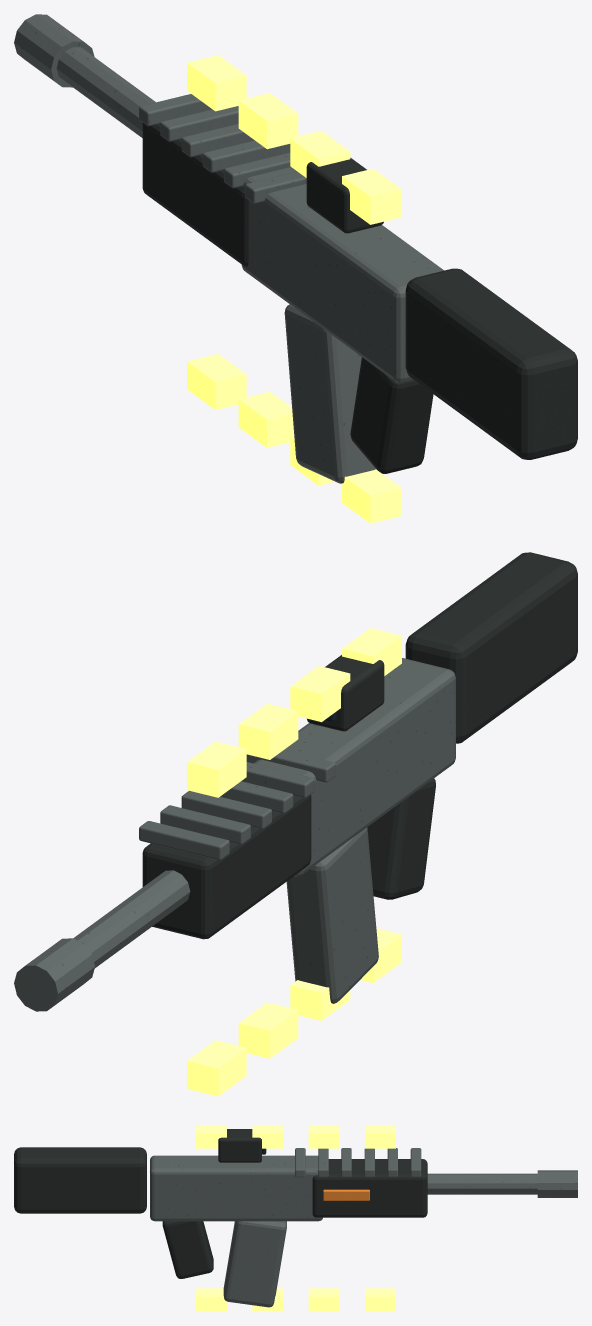
The model's file is rifle_4.glb.
The picture shows the model from 3 angles, top to bottom: view 1: azimuth 30°, elevation 25°; view 2: azimuth 150°, elevation 25°; view 3: azimuth 270°, elevation 25°; orthographic projection. The views are drawn at different scales.
Visible parts, largest first — view 1: Weapon_rifle, GRADE_4_RAIL_2_1, GRADE_4_RAIL_3_1, GRADE_4_RAIL_3_-1, GRADE_4_RAIL_0_-1, GRADE_4_RAIL_2_-1, GRADE_4_RAIL_0_1, GRADE_4_RAIL_1_1; view 2: Weapon_rifle, GRADE_4_RAIL_3_1, GRADE_4_RAIL_3_-1, GRADE_4_RAIL_2_-1, GRADE_4_RAIL_2_1, GRADE_4_RAIL_1_1, GRADE_4_RAIL_0_1, GRADE_4_RAIL_1_-1, GRADE_4_RAIL_0_-1; view 3: Weapon_rifle, GRADE_4_RAIL_2_1, GRADE_4_RAIL_2_-1, GRADE_4_RAIL_3_1, GRADE_4_RAIL_3_-1, GRADE_4_RAIL_0_-1, GRADE_4_RAIL_1_1, GRADE_4_RAIL_0_1, GRADE_4_RAIL_1_-1.
Boxes of the visible parts, bbox=[...] form: Weapon_rifle: bbox=[14, 14, 577, 483]; GRADE_4_RAIL_2_1: bbox=[238, 93, 298, 149]; GRADE_4_RAIL_3_1: bbox=[187, 55, 246, 111]; GRADE_4_RAIL_3_-1: bbox=[187, 353, 246, 409]; GRADE_4_RAIL_0_-1: bbox=[342, 469, 401, 523]; GRADE_4_RAIL_2_-1: bbox=[238, 391, 294, 447]; GRADE_4_RAIL_0_1: bbox=[342, 168, 401, 224]; GRADE_4_RAIL_1_1: bbox=[290, 130, 350, 177]; Weapon_rifle: bbox=[14, 552, 577, 1011]; GRADE_4_RAIL_3_1: bbox=[187, 741, 246, 797]; GRADE_4_RAIL_3_-1: bbox=[187, 1040, 246, 1096]; GRADE_4_RAIL_2_-1: bbox=[238, 1002, 298, 1058]; GRADE_4_RAIL_2_1: bbox=[238, 703, 298, 759]; GRADE_4_RAIL_1_1: bbox=[290, 666, 350, 722]; GRADE_4_RAIL_0_1: bbox=[342, 628, 401, 675]; GRADE_4_RAIL_1_-1: bbox=[290, 980, 350, 1020]; GRADE_4_RAIL_0_-1: bbox=[360, 928, 401, 982]; Weapon_rifle: bbox=[14, 1129, 577, 1307]; GRADE_4_RAIL_2_1: bbox=[308, 1125, 339, 1148]; GRADE_4_RAIL_2_-1: bbox=[308, 1288, 339, 1311]; GRADE_4_RAIL_3_1: bbox=[365, 1125, 395, 1148]; GRADE_4_RAIL_3_-1: bbox=[365, 1288, 395, 1311]; GRADE_4_RAIL_0_-1: bbox=[196, 1288, 226, 1311]; GRADE_4_RAIL_1_1: bbox=[252, 1125, 283, 1148]; GRADE_4_RAIL_0_1: bbox=[196, 1125, 226, 1148]; GRADE_4_RAIL_1_-1: bbox=[252, 1288, 283, 1311].
Size of the model in its own units: 0.09 by 0.3401 by 0.975.
Materials: 5 (4 with a texture image).
